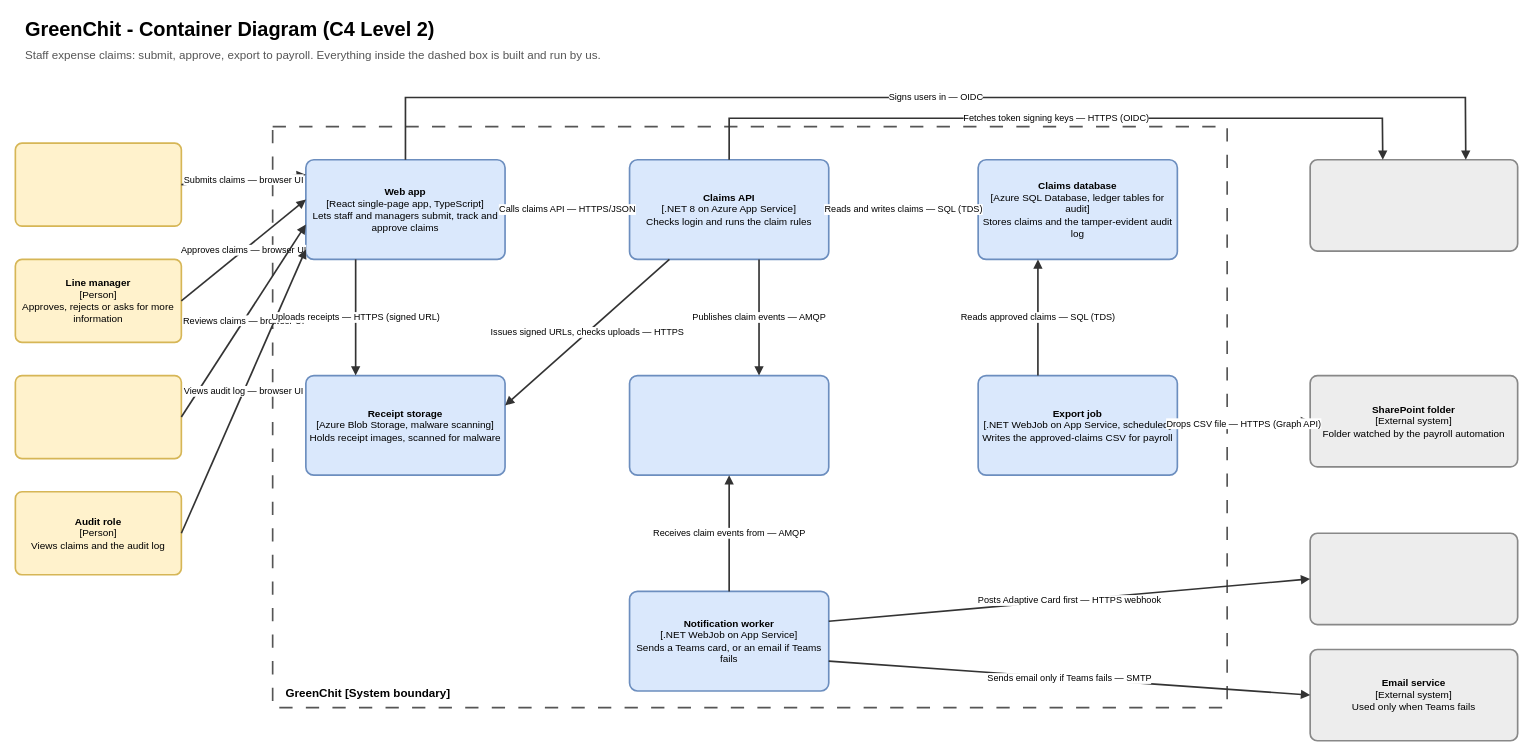
This 1532x755 diagram has some shape labels left out. The shapes that lost their labels are listed below. From the top down, each one's centre as x and y in pixels, then its label:
At point 98,184: "Staff (claimant) [Person] Submits claims and tracks their status".
At point 1413,205: "Microsoft Entra ID [External system] Single sign-on for BISTEC staff".
At point 98,416: "Finance [Person] Reviews approved claims for payroll".
At point 728,425: "Message queue [Azure Service Bus queue] Holds claim events for the worker".
At point 1413,578: "Microsoft Teams [External system] Shows Adaptive Cards to managers".
